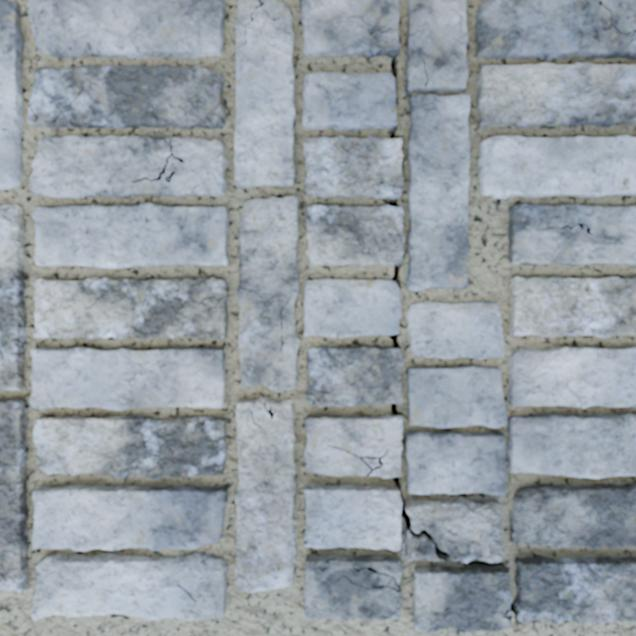brick: (406, 0, 469, 290), (32, 553, 226, 619), (33, 485, 226, 550), (28, 65, 225, 128), (33, 204, 228, 267), (34, 415, 225, 479), (29, 136, 225, 197), (30, 348, 224, 409), (238, 196, 299, 390), (34, 278, 227, 339), (235, 397, 295, 591), (235, 0, 295, 187), (28, 0, 224, 57), (477, 63, 635, 127), (479, 136, 635, 197), (475, 0, 635, 59), (514, 556, 635, 624), (507, 414, 635, 477), (509, 484, 635, 547), (510, 276, 635, 337), (508, 347, 635, 407), (509, 205, 635, 264), (412, 566, 511, 632), (304, 554, 401, 619), (405, 431, 505, 494), (303, 135, 402, 198), (305, 484, 400, 549), (304, 415, 402, 477), (407, 366, 506, 427), (305, 205, 404, 265), (306, 347, 402, 406), (301, 0, 398, 57), (304, 279, 400, 336), (0, 399, 28, 592), (407, 302, 503, 358), (303, 73, 396, 129), (0, 204, 25, 390), (0, 0, 23, 188), (603, 0, 635, 31), (235, 0, 257, 45)
broken_brick: (404, 497, 503, 562), (404, 526, 440, 561)
crack: (391, 476, 451, 563), (130, 137, 185, 183), (326, 443, 388, 476), (342, 564, 401, 593), (597, 0, 635, 44), (235, 0, 269, 49), (366, 27, 401, 43), (44, 373, 55, 407), (462, 559, 504, 567), (501, 602, 517, 623), (390, 55, 399, 89), (391, 263, 401, 289), (389, 330, 401, 348), (29, 104, 38, 121), (390, 402, 398, 416), (388, 197, 398, 207), (400, 146, 404, 170), (389, 127, 396, 139), (491, 572, 509, 576), (531, 619, 541, 622), (304, 539, 309, 545), (29, 404, 34, 409), (496, 500, 500, 505), (401, 252, 404, 257)
